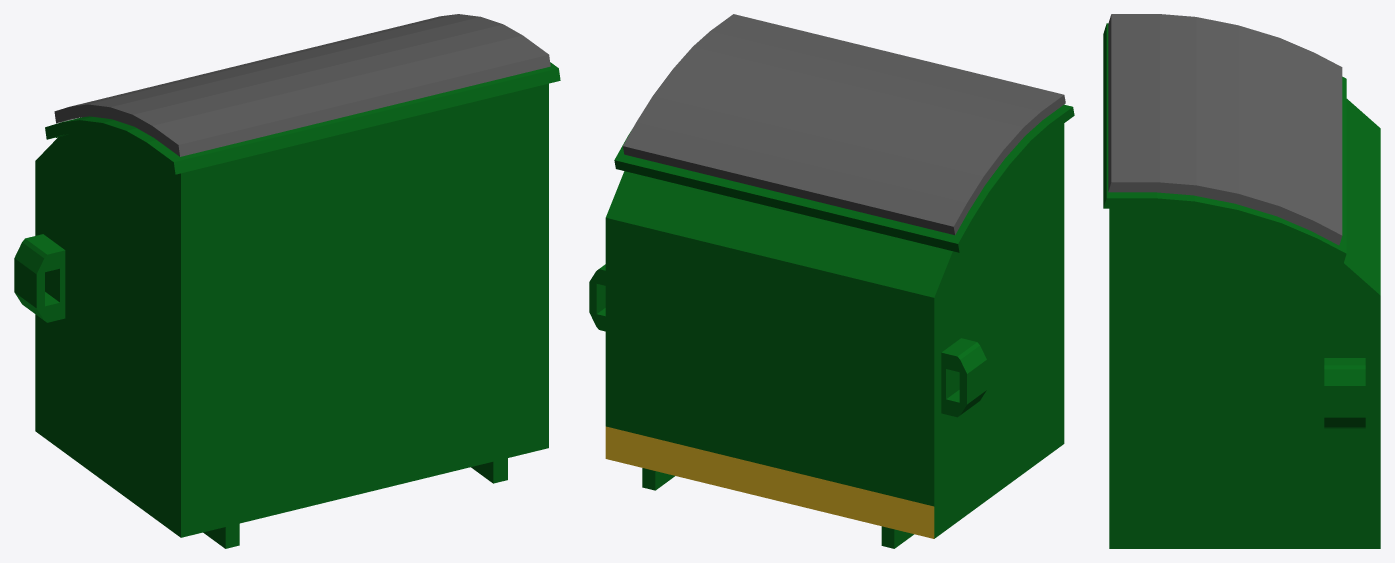
The model's file is tempat sampah.fbx.
3 views of the same model, side by side, from view 1: azimuth 30°, elevation 25°; view 2: azimuth 150°, elevation 25°; view 3: azimuth 270°, elevation 25° (orthographic). The views are drawn at different scales.
Visible parts, largest first — view 1: Cube.006; view 2: Cube.006; view 3: Cube.006.
Part boxes in pixels (x1,y1,x2,y2): Cube.006: (14, 14, 560, 548); Cube.006: (589, 14, 1074, 548); Cube.006: (1103, 14, 1380, 548).
Bounding box in the file's own units: 121 × 113 × 73.52.
